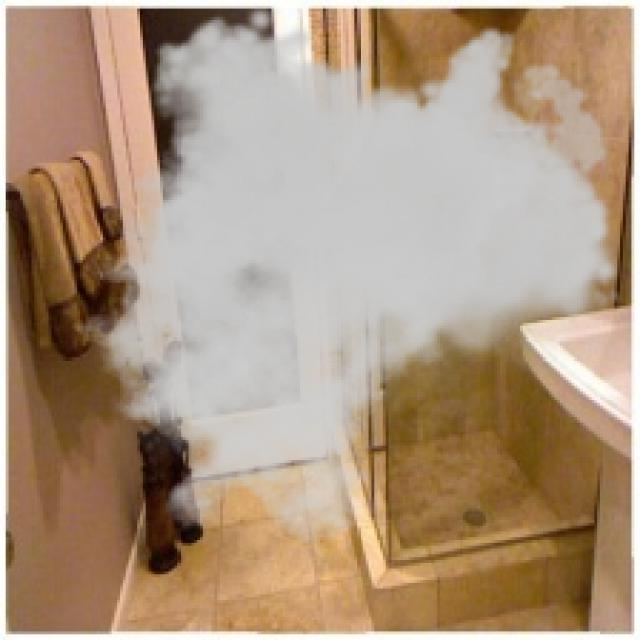Smoke: (54, 3, 623, 546)
